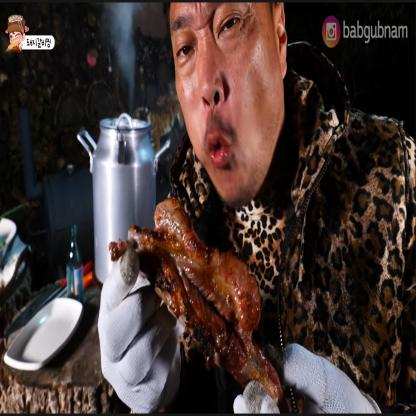streamer: (97, 1, 416, 416)
